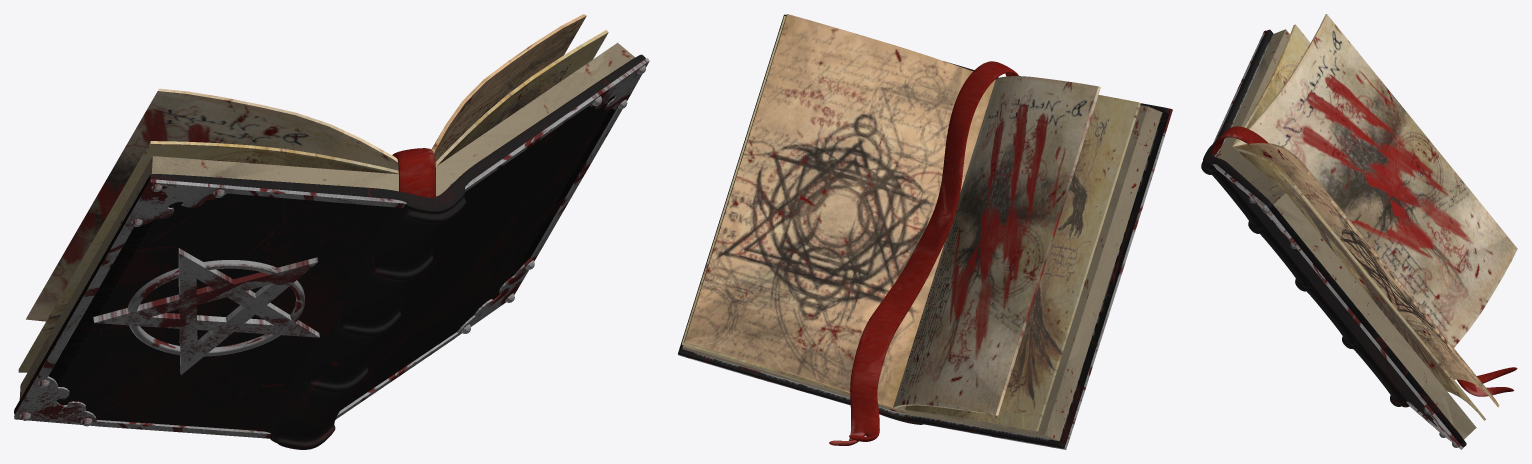
The model's file is satanic_rituals_book.glb.
3 renders of one model, left to right at view 1: azimuth 30°, elevation 25°; view 2: azimuth 150°, elevation 25°; view 3: azimuth 270°, elevation 25°, orthographic. The views are drawn at different scales.
Parts seen in each view (by area): view 1: cover, cover_border, polySurface5, polySurface3, polySurface2, polySurface4, polySurface6, polySurface7, polySurface1, pCube10; view 2: polySurface6, polySurface5, polySurface4, pCube10, polySurface3, cover, cover_border, polySurface7; view 3: polySurface5, cover, polySurface3, polySurface6, polySurface7, cover_border, polySurface4, pCube10.
Part boxes in pixels (bbox=[...]): cover: bbox=[14, 54, 645, 449]; cover_border: bbox=[14, 58, 649, 438]; polySurface5: bbox=[26, 88, 398, 321]; polySurface3: bbox=[19, 42, 634, 399]; polySurface2: bbox=[93, 248, 319, 374]; polySurface4: bbox=[18, 141, 398, 372]; polySurface6: bbox=[431, 14, 586, 161]; polySurface7: bbox=[435, 30, 608, 166]; polySurface1: bbox=[127, 260, 304, 356]; pCube10: bbox=[392, 148, 435, 197]; polySurface6: bbox=[684, 14, 995, 407]; polySurface5: bbox=[893, 76, 1100, 415]; polySurface4: bbox=[896, 95, 1140, 431]; pCube10: bbox=[829, 61, 1018, 445]; polySurface3: bbox=[682, 105, 1162, 440]; cover: bbox=[678, 14, 1170, 448]; cover_border: bbox=[678, 14, 1172, 449]; polySurface7: bbox=[681, 16, 884, 405]; polySurface5: bbox=[1232, 14, 1517, 347]; cover: bbox=[1201, 29, 1466, 447]; polySurface3: bbox=[1216, 29, 1476, 439]; polySurface6: bbox=[1232, 143, 1499, 407]; polySurface7: bbox=[1233, 147, 1485, 420]; cover_border: bbox=[1213, 30, 1462, 449]; polySurface4: bbox=[1233, 24, 1310, 144]; pCube10: bbox=[1211, 126, 1517, 396].
Bounding box in the file's own units: 0.0517 × 0.0438 × 0.0393.
Materials: 1 (1 with a texture image).
